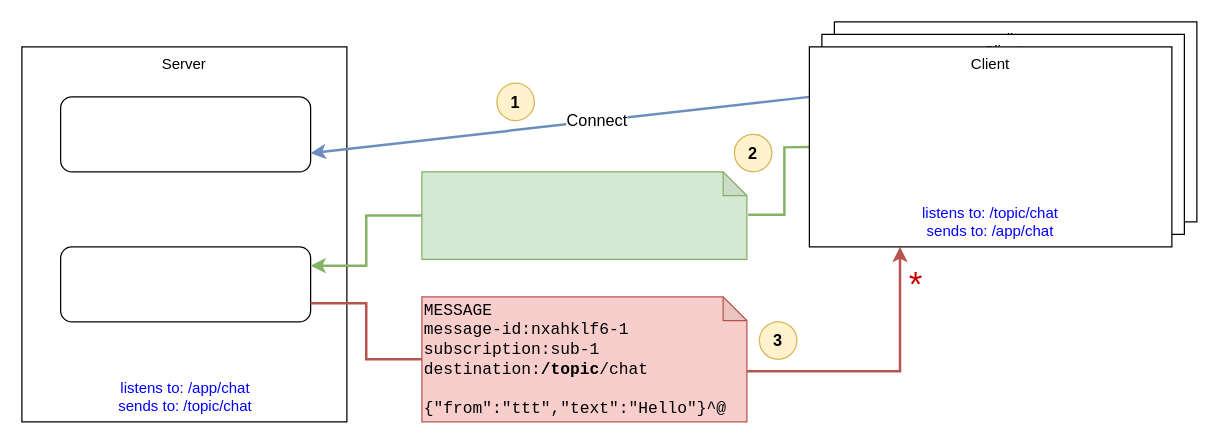
This 1219x444 diagram has some shape labels left out. The shapes that lost their labels are listed below. From the top down, each one's centre as x and y in pixels, then its label:
[185,134]: @Configuration Endpoint http://localhost:8080/chat
[584,214]: SEND destination: /app /chat {"from":"ttt","text":"Hello"}^@
[185,284]: @Controller @MessageMapping("/chat")
